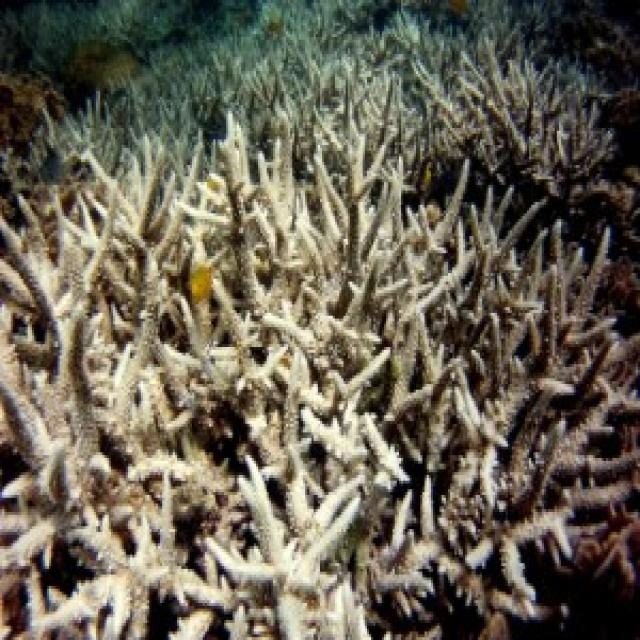Bleached: (1, 15, 639, 638)
